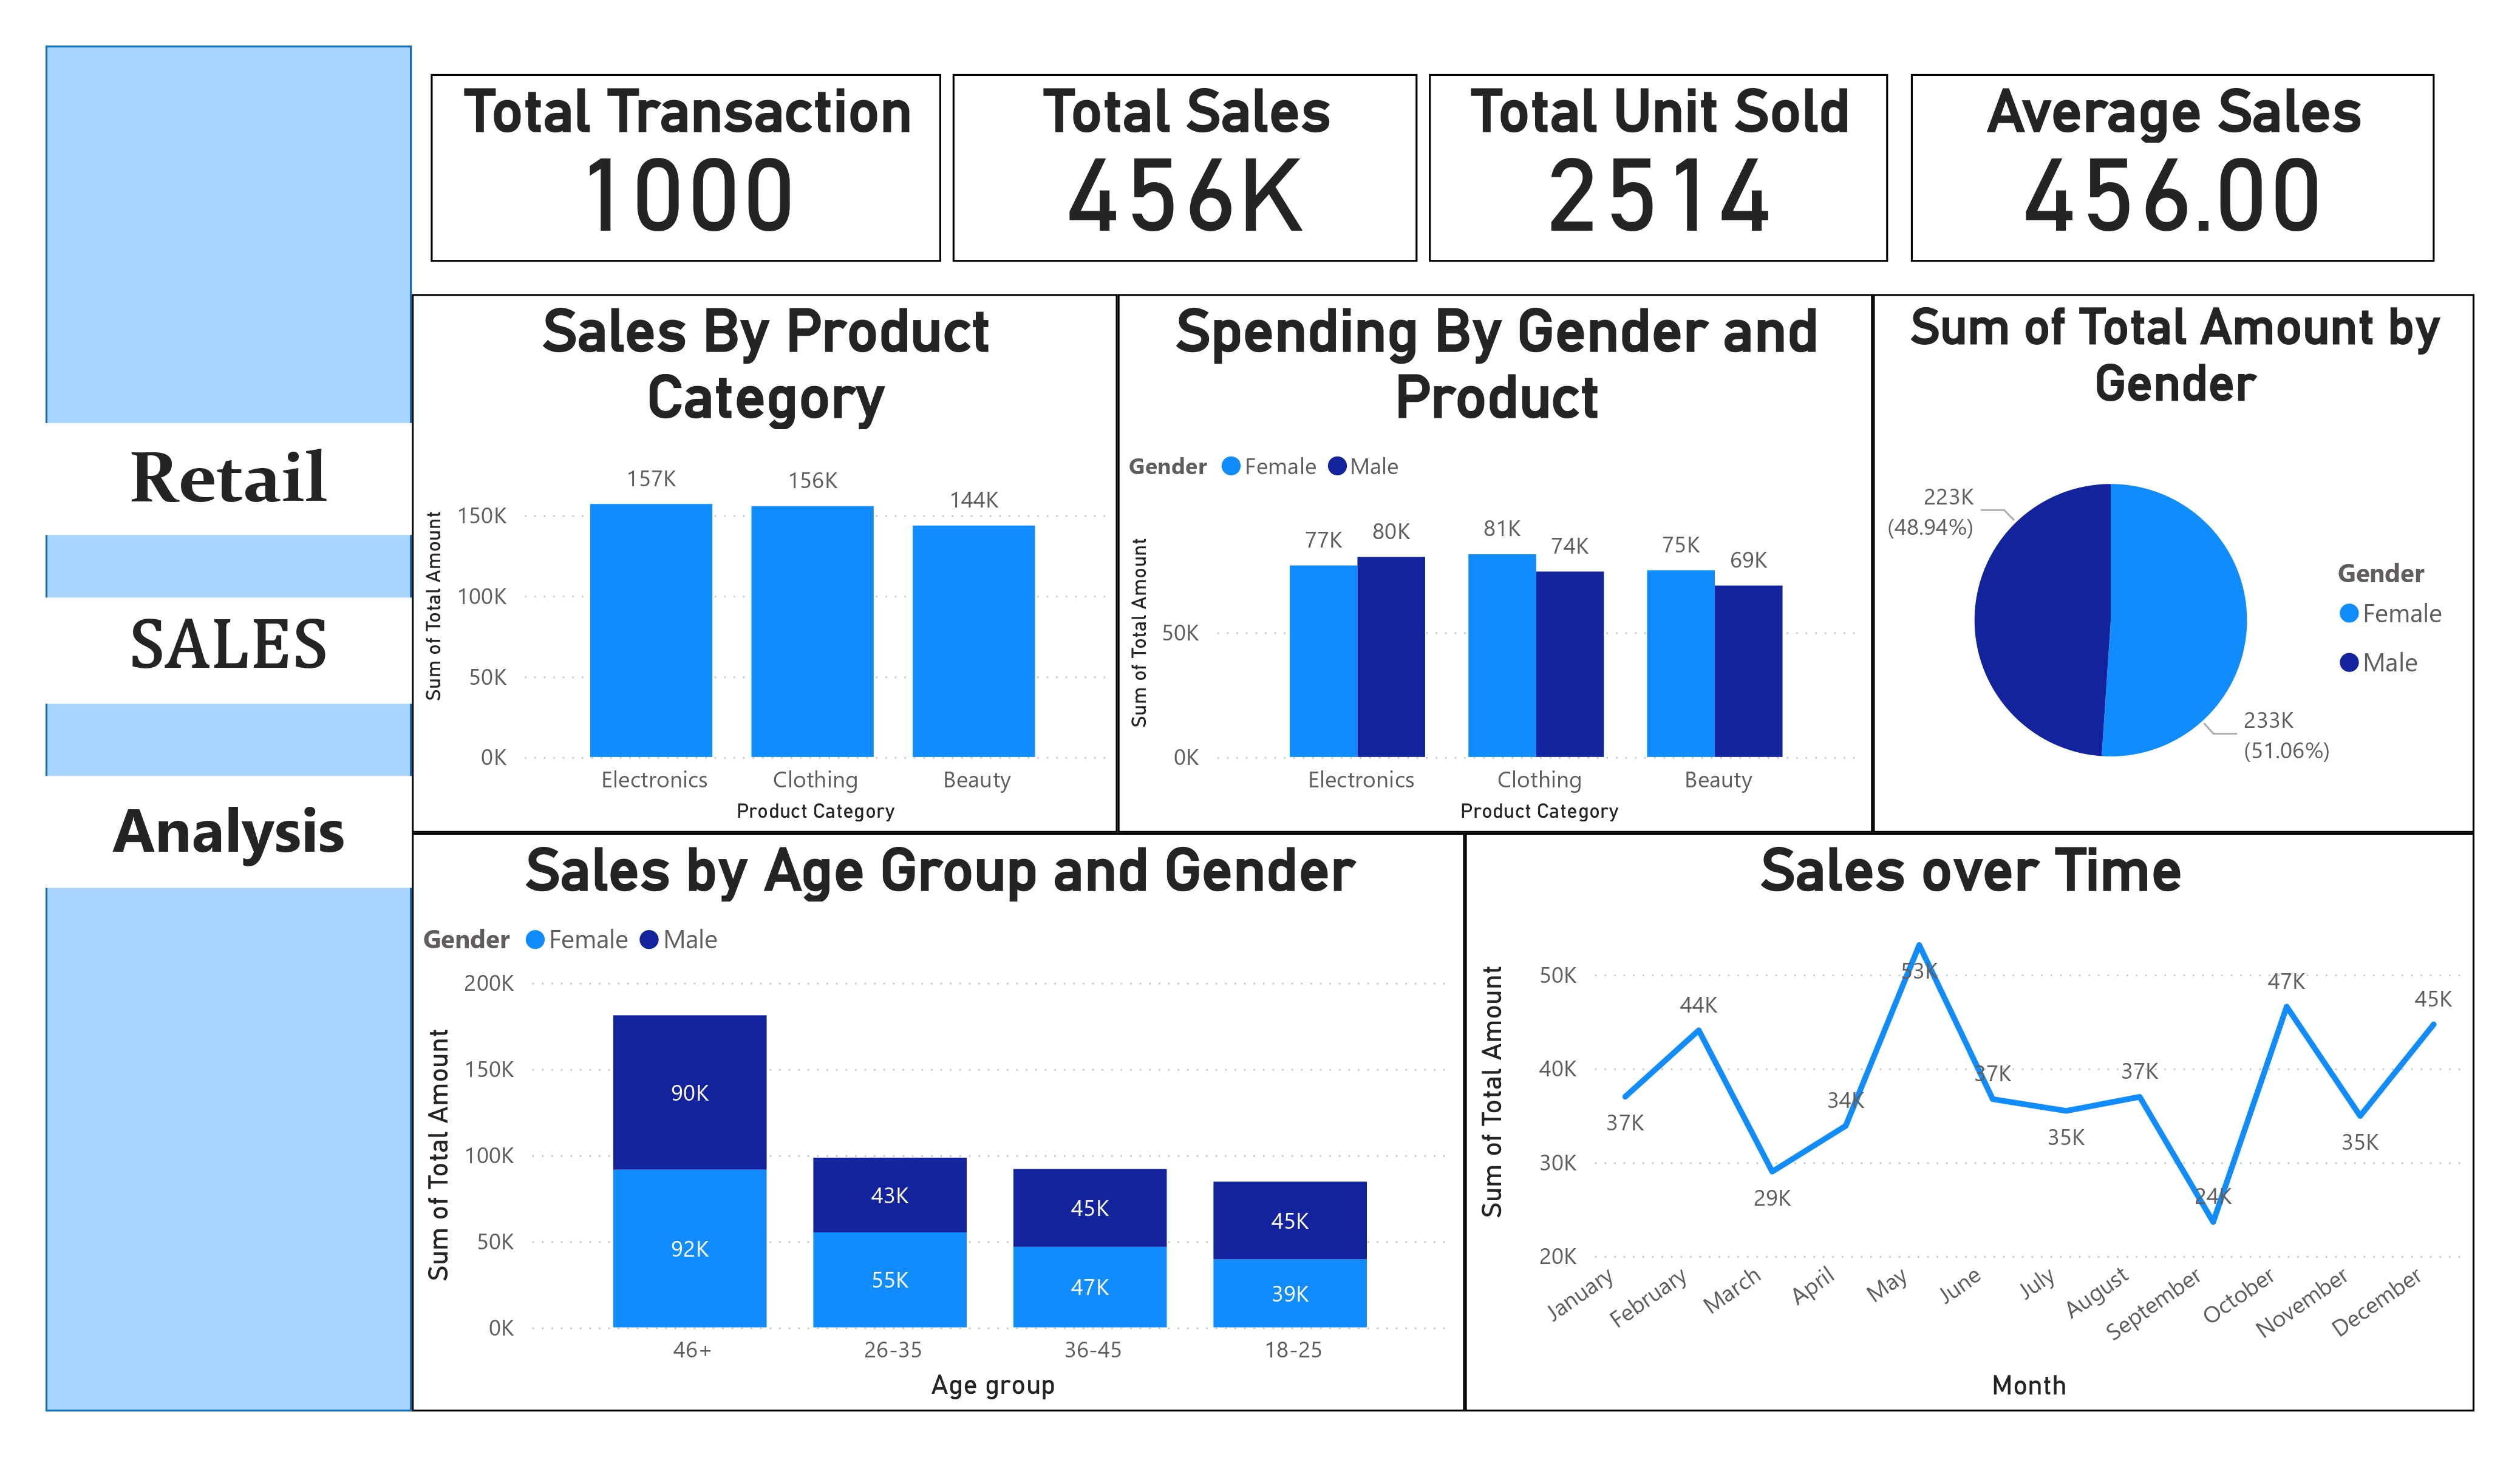

This screenshot's page, from the dashboard's own definition file:
{"tool":"powerbi","page":{"name":"Page 1","canvas":[1280,720],"ordinal":0},"visuals":[{"type":"card","title":"Total Transaction","fields":{"Values":["CountNonNull(cleaned.Customer ID)"]},"box":[203.2,14.9,268.9,98.6],"z":0},{"type":"card","title":"Total Sales","fields":{"Values":["Sum(cleaned.Total Amount)"]},"box":[478,14.9,245,98.6],"z":1000},{"type":"card","title":"Total Unit Sold","fields":{"Values":["Sum(cleaned.Quantity)"]},"box":[729,14.9,242,98.6],"z":2000},{"type":"card","title":"Average Sales","fields":{"Values":["Avg(cleaned.Total Amount)"]},"box":[982.9,14.9,276.3,98.6],"z":3000},{"type":"columnChart","title":"Sales By Product Category","fields":{"Category":["cleaned.Product Category"],"Y":["Sum(cleaned.Total Amount)"]},"box":[192.7,131.5,372,283.8],"z":5000},{"type":"lineChart","title":"Sales over Time","fields":{"Y":["Sum(cleaned.Total Amount)"],"Category":["cleaned.Date.Variation.Date Hierarchy.Month"]},"box":[748.4,415.3,531.8,304.7],"z":6000},{"type":"pieChart","fields":{"Category":["cleaned.Gender"],"Y":["Sum(cleaned.Total Amount)"]},"box":[963.5,131.5,316.7,283.8],"z":7000},{"type":"columnChart","title":"Sales by Age Group and Gender","fields":{"Category":["cleaned.Age group"],"Y":["Sum(cleaned.Total Amount)"],"Series":["cleaned.Gender"]},"box":[192.7,415.3,555.7,304.7],"z":8000},{"type":"shape","box":[0,0,192.7,720],"z":9000},{"type":"clusteredColumnChart","title":"Spending By Gender and Product","fields":{"Category":["cleaned.Product Category"],"Y":["Sum(cleaned.Total Amount)"],"Series":["cleaned.Gender"]},"box":[564.6,131.5,398.8,283.8],"z":10000},{"type":"textbox","box":[0,198.7,192.7,59.8],"z":10001},{"type":"textbox","box":[0,384.5,193.1,59.8],"z":10002},{"type":"textbox","box":[0,291.3,192.7,55.3],"z":10003}]}

Visuals, with their boxes in screenshot pixels (x1, y1, x2, y2):
"Total Transaction" card: detection(431, 74, 941, 261)
"Total Sales" card: detection(953, 74, 1417, 261)
"Total Unit Sold" card: detection(1429, 74, 1888, 261)
"Average Sales" card: detection(1911, 74, 2435, 261)
"Sales By Product Category" columnChart: detection(411, 295, 1117, 834)
"Sales over Time" lineChart: detection(1466, 834, 2474, 1411)
pieChart - cleaned.Gender x Sum(cleaned.Total Amount): detection(1874, 295, 2474, 834)
"Sales by Age Group and Gender" columnChart: detection(411, 834, 1466, 1411)
shape: detection(46, 46, 411, 1411)
"Spending By Gender and Product" clusteredColumnChart: detection(1117, 295, 1874, 834)
textbox: detection(46, 423, 411, 536)
textbox: detection(46, 775, 412, 888)
textbox: detection(46, 598, 411, 703)
